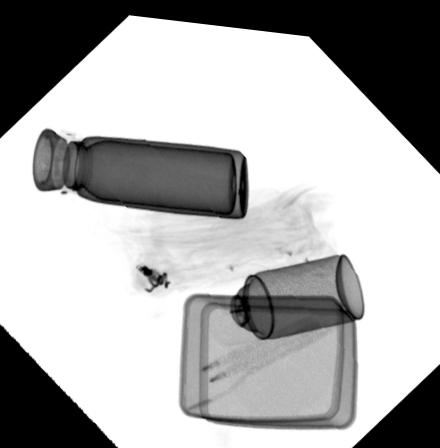Sprayer: (196, 242, 366, 343)
